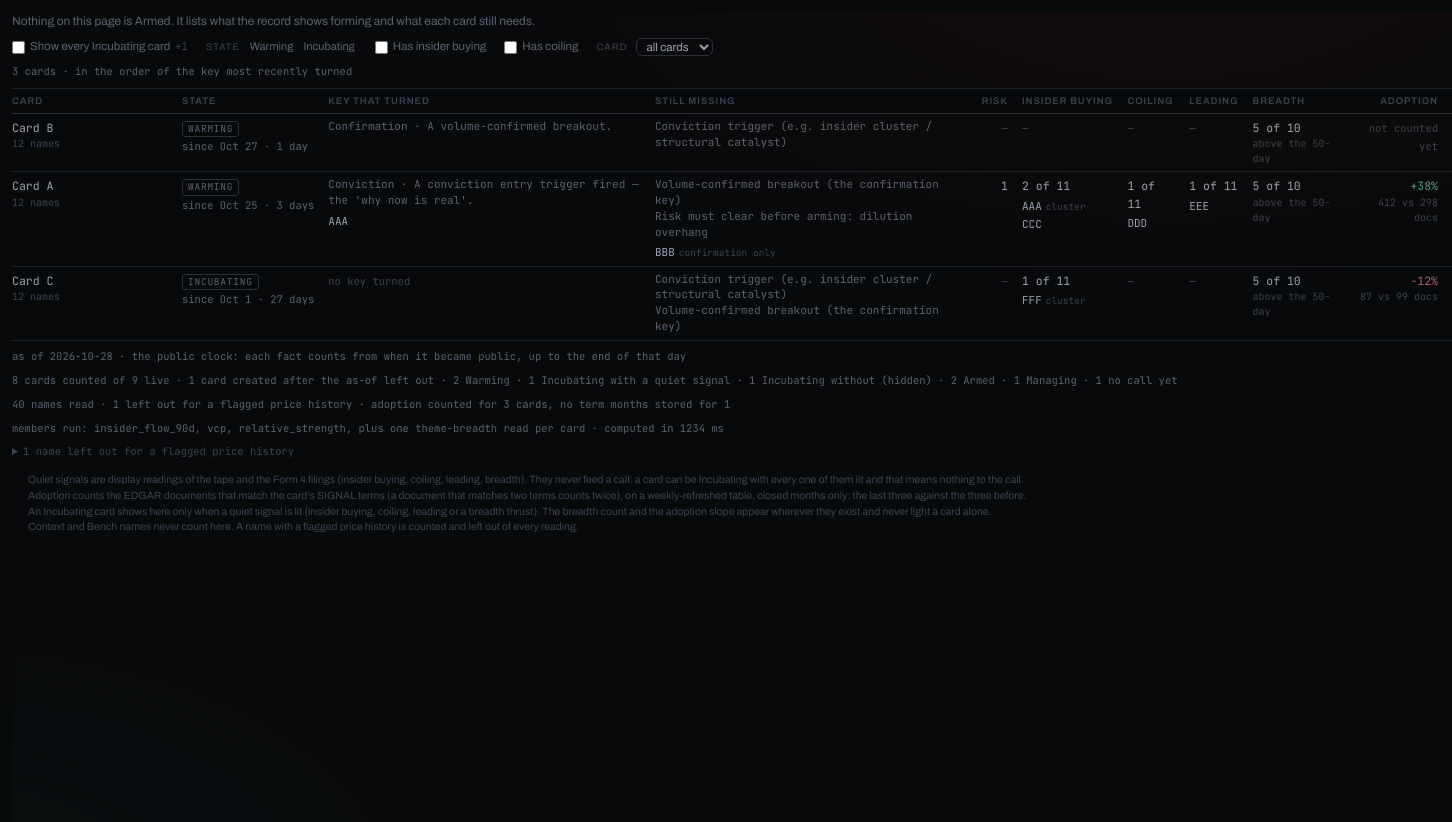
FormingQuietly — the rows › shows the state in gray words with the run's first night, the days in state and a rebuilt night marked
The width and height of the screenshot is (1452, 822).
Expected: the text "Warming" in the row of "2 of 11" is shown, top-left (188, 180), bottom-right (233, 193)
Expected: the text with class "fq-since" reads "since Oct 25 · 3 days", top-left (182, 198), bottom-right (314, 213)
a rebuilt first night is marked once the toggle shows the card
Click the checkbox labelled "Show every Incubating card +1": (18, 47) top-left (12, 40), bottom-right (25, 54)
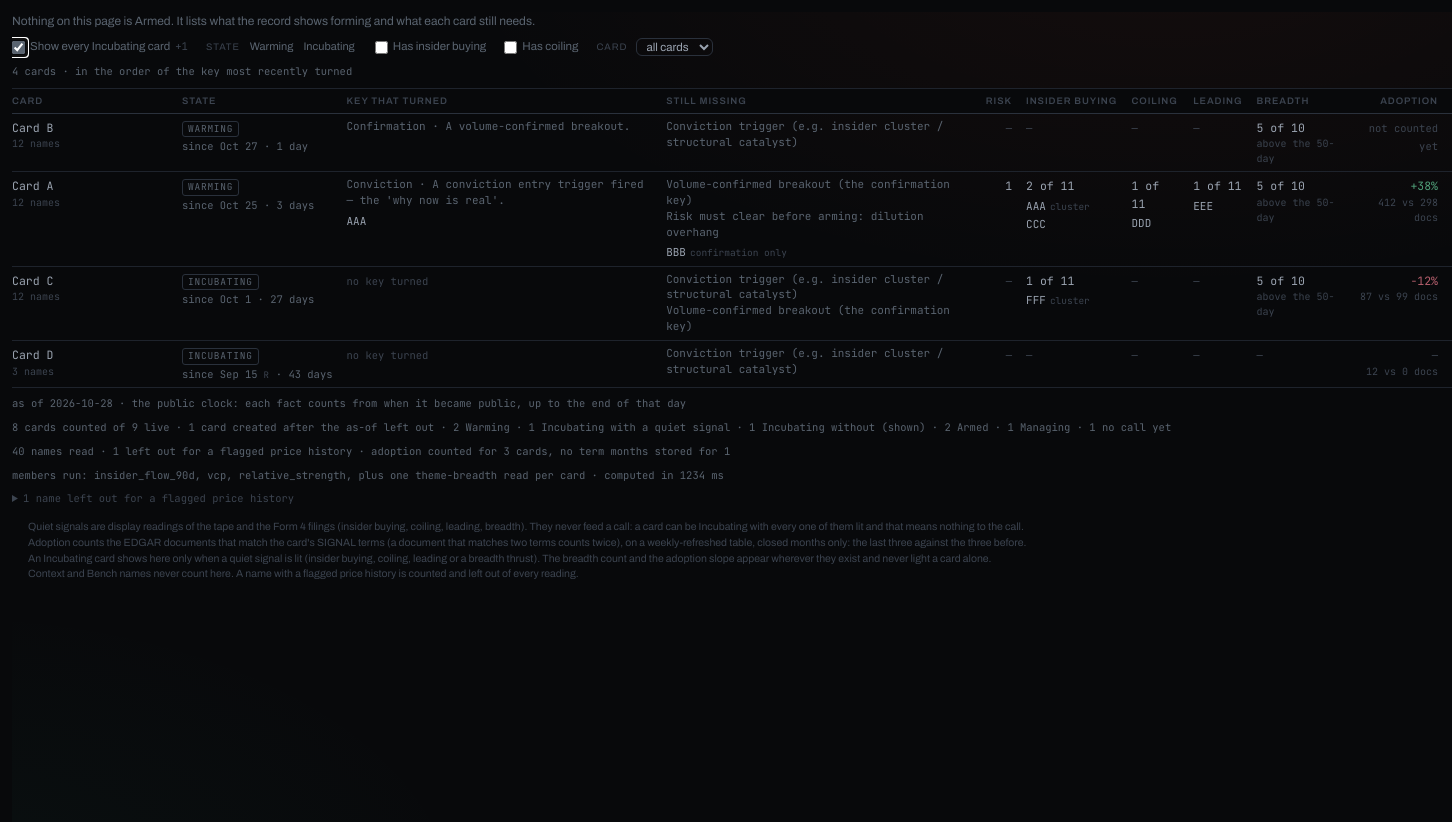
Expected: the text with class "fq-mark" reads "R", top-left (258, 368), bottom-right (270, 380)
Expected: the element with class "fq-since" reads "since Sep 15 R · 43 days", top-left (182, 366), bottom-right (332, 382)
